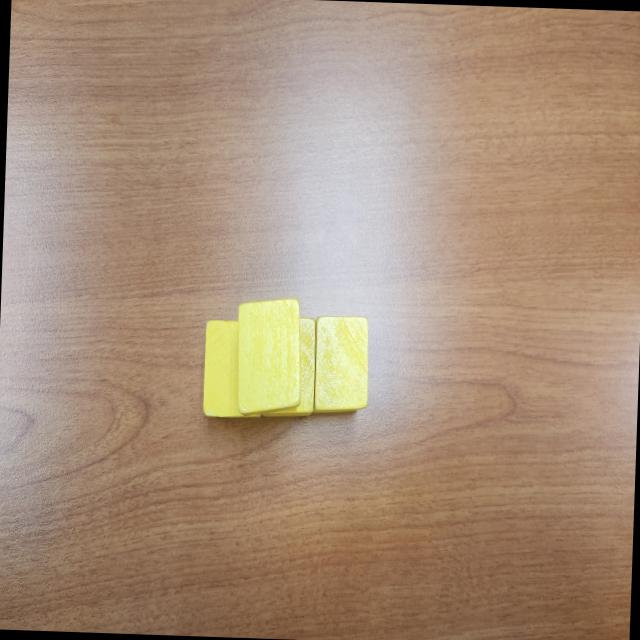yellow: (234, 297, 303, 418), (200, 318, 264, 419), (260, 316, 318, 423), (311, 314, 370, 416)
